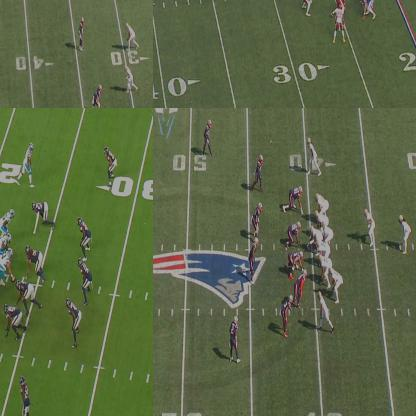CENTER: (1, 253, 14, 284), (308, 230, 320, 256)
DB: (280, 296, 292, 336), (231, 318, 241, 362), (107, 147, 118, 184), (336, 1, 346, 39), (22, 377, 31, 415), (204, 118, 211, 154)
LB: (68, 297, 80, 348), (80, 258, 92, 304), (80, 220, 93, 254), (294, 269, 307, 303), (251, 203, 263, 238), (247, 238, 257, 277), (255, 154, 265, 190), (92, 85, 103, 107), (79, 17, 86, 51), (301, 0, 313, 16)
QB: (321, 221, 334, 242)
SKILL: (327, 266, 343, 302), (319, 293, 333, 333), (308, 138, 321, 178), (23, 140, 35, 183), (364, 208, 376, 247), (401, 215, 411, 253), (126, 24, 138, 52), (360, 0, 376, 14), (125, 66, 133, 92)
